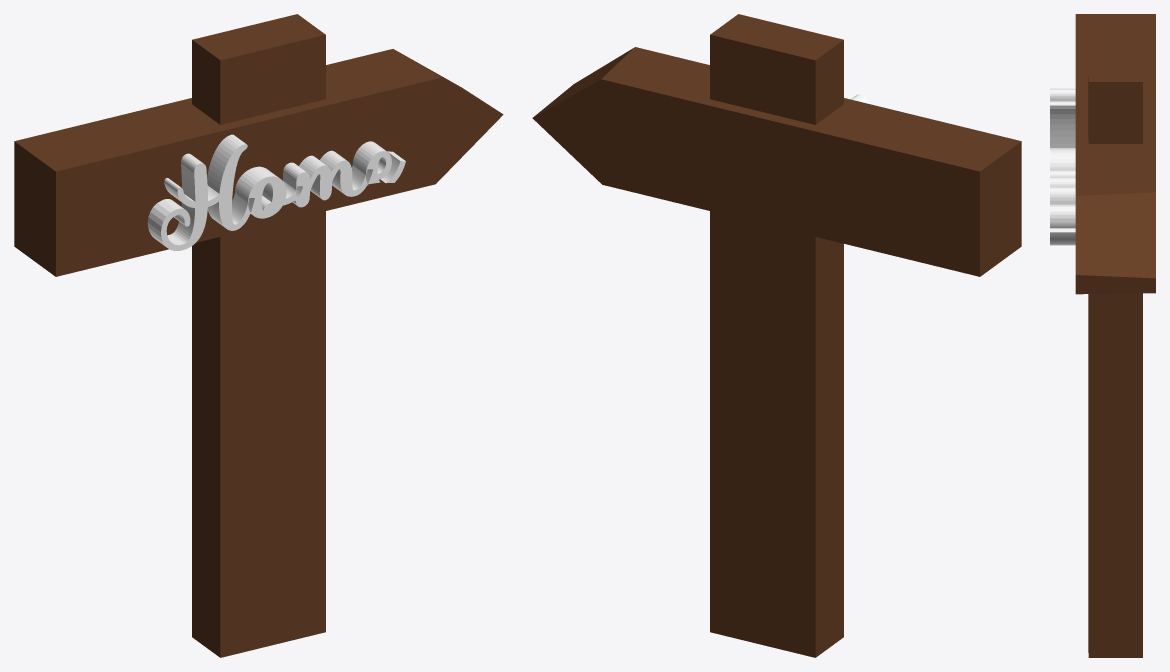
The model's file is back_Pfeil.glb.
3 views of the same model, side by side, from view 1: azimuth 30°, elevation 25°; view 2: azimuth 150°, elevation 25°; view 3: azimuth 270°, elevation 25° (orthographic). The views are drawn at different scales.
Parts seen in each view (by area): view 1: Curve.002; view 2: Curve.002; view 3: Curve.002.
Part boxes in pixels (<box>): Curve.002: <box>14,14,503,657</box>; Curve.002: <box>532,14,1021,657</box>; Curve.002: <box>1050,14,1155,657</box>.
Bounding box in the file's own units: 2 × 2.55 × 0.4242.
